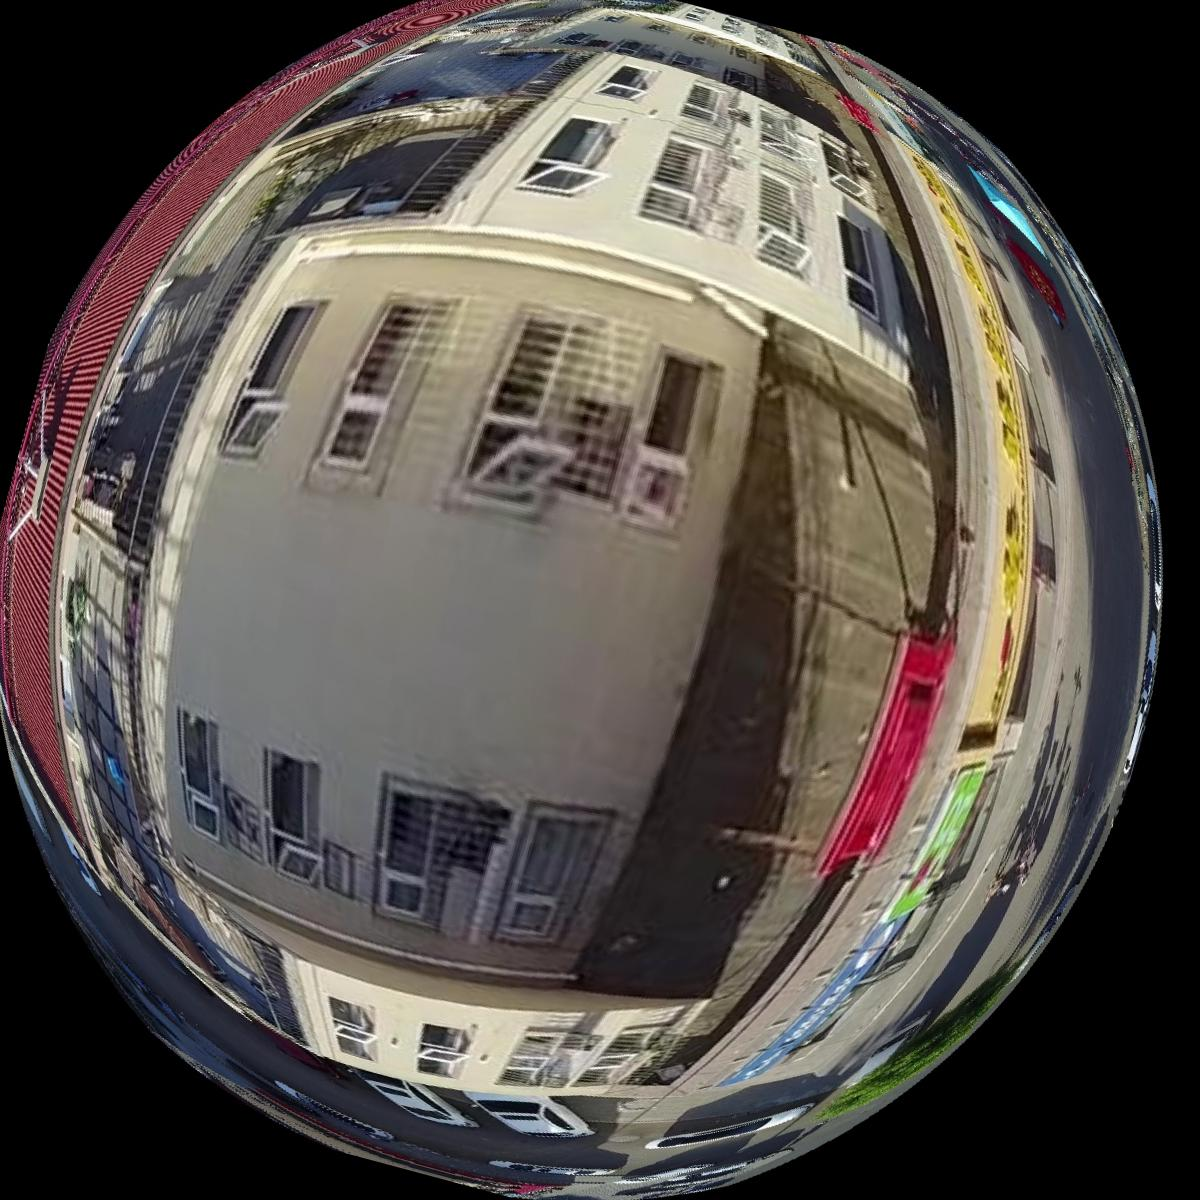building: (0, 0, 1071, 1114)
cars: (646, 1104, 812, 1151), (354, 1070, 476, 1129), (844, 1015, 929, 1088), (465, 1095, 592, 1140), (489, 1162, 613, 1178)
trees: (815, 946, 1038, 1123)
